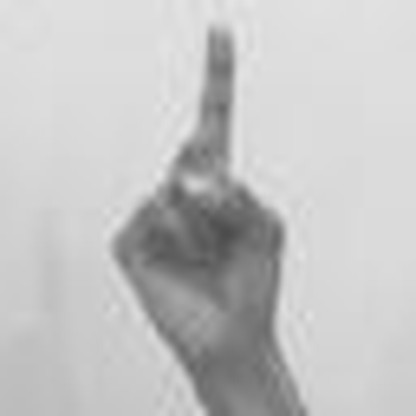d: (93, 10, 321, 356)
